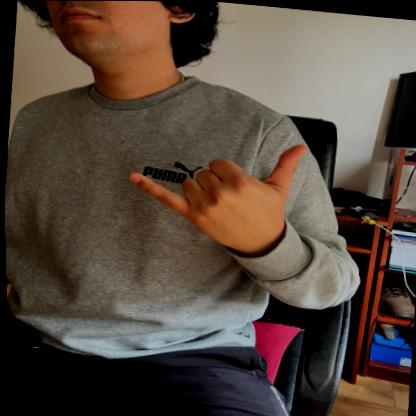Y: (120, 121, 310, 254)
